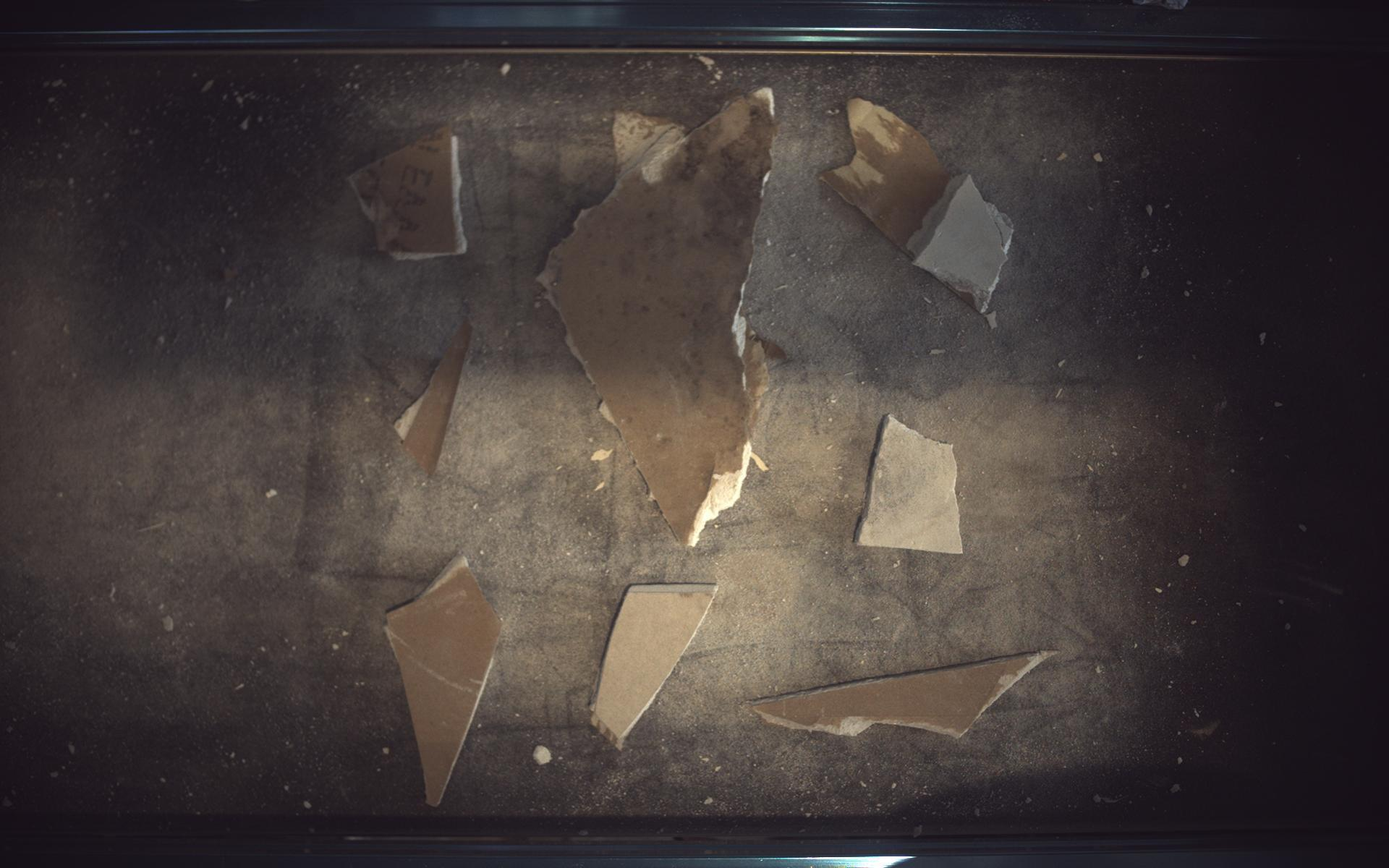gypsum_board: (538, 87, 778, 547), (822, 97, 1015, 327), (386, 556, 502, 807), (753, 652, 1057, 739), (591, 584, 718, 750), (349, 125, 467, 259), (857, 415, 965, 555), (394, 320, 472, 475)
